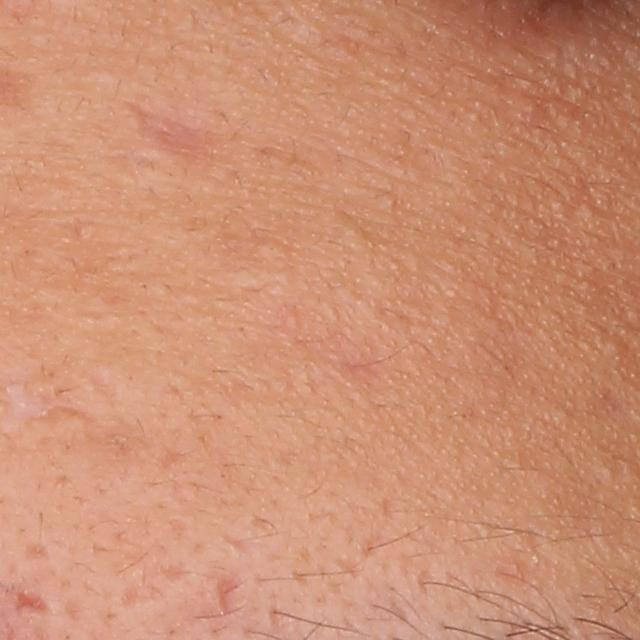atrophic_scar: (132, 108, 237, 172), (211, 572, 251, 618), (14, 588, 54, 617)
